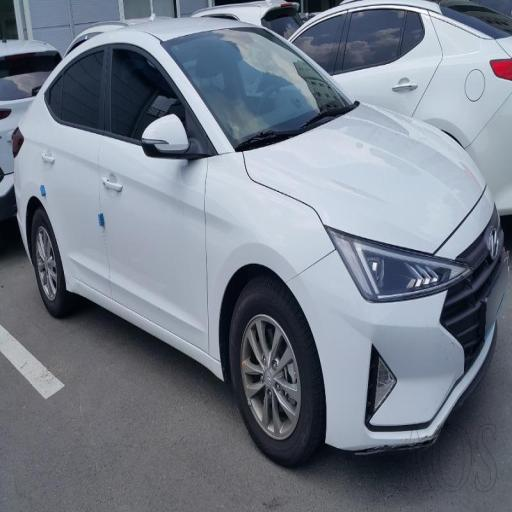normal: (24, 18, 500, 486)
